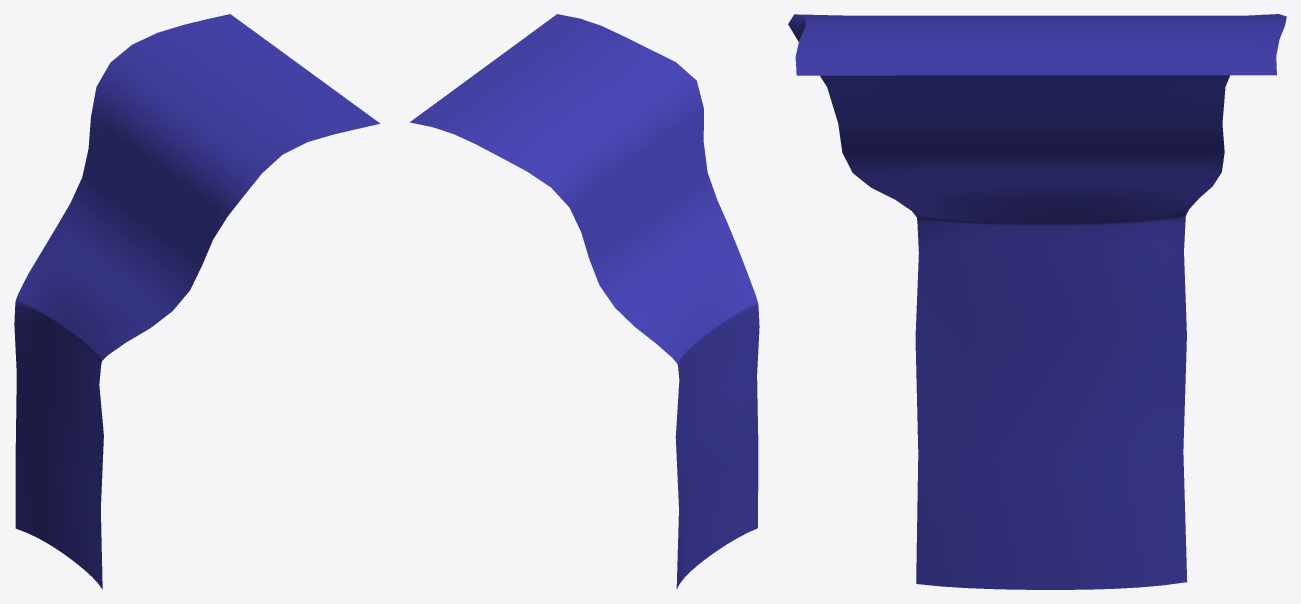
The model's file is Advertising-Hell-Terrain-City-Lagoon-Waterfall.fbx.
The picture shows the model from 3 angles, left to right: view 1: azimuth 30°, elevation 25°; view 2: azimuth 150°, elevation 25°; view 3: azimuth 270°, elevation 25°; orthographic projection. The views are drawn at different scales.
Visible parts, largest first — view 1: Advertising-Hell-Terrain-City-Lagoon-Waterfall; view 2: Advertising-Hell-Terrain-City-Lagoon-Waterfall; view 3: Advertising-Hell-Terrain-City-Lagoon-Waterfall.
Part boxes in pixels (x1,y1,x2,y2): Advertising-Hell-Terrain-City-Lagoon-Waterfall: (14, 14, 379, 589); Advertising-Hell-Terrain-City-Lagoon-Waterfall: (410, 14, 759, 589); Advertising-Hell-Terrain-City-Lagoon-Waterfall: (788, 14, 1286, 589).
Bounding box in the file's own units: 6538 × 11095 × 7191.
